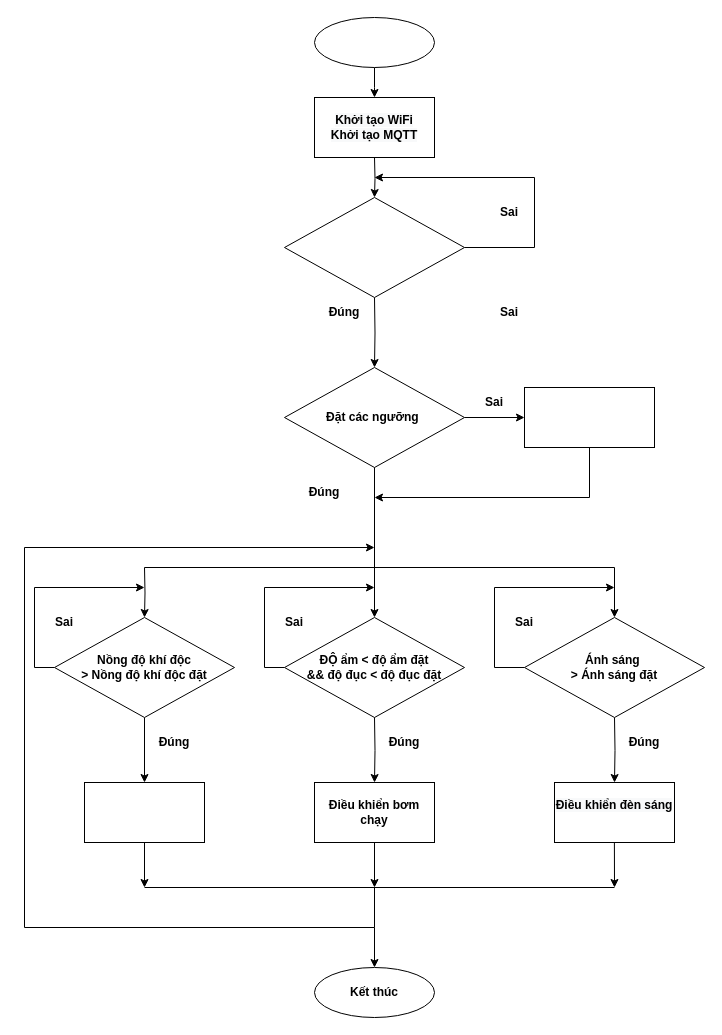
The diagram is 722 pixels wide and 1035 high, and some of its shapes have lost their labels. Each missing label, with the centre of its shape:
"Bắt đầu" goes at [374,42].
"Chế độ tự động" goes at [374,247].
"Ngưỡng lấy mạc định" goes at [589,417].
"Điều khiển quạt chạy" goes at [144,812].
